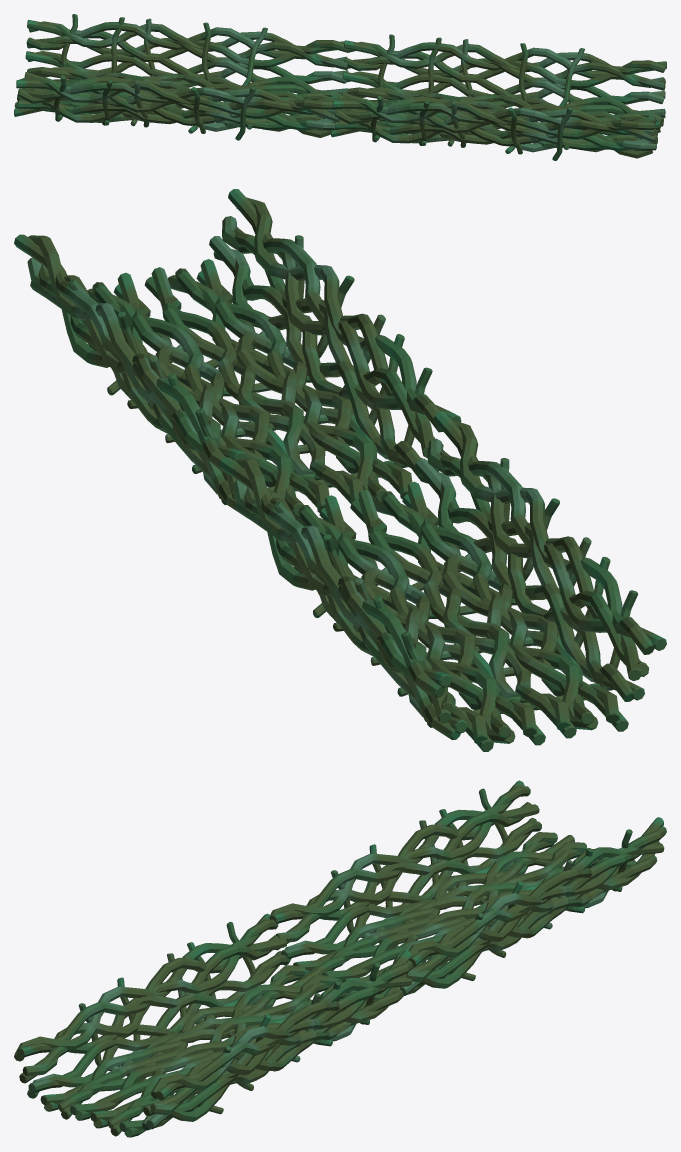
Rendered from bridge.fbx.
3 views of the same model, one above another, from view 1: azimuth 30°, elevation 25°; view 2: azimuth 150°, elevation 25°; view 3: azimuth 270°, elevation 25° (orthographic). The views are drawn at different scales.
Parts seen in each view (by area): view 1: bridge; view 2: bridge; view 3: bridge.
Boxes of the visible parts, x1=… form: bridge: x1=14, y1=14, x2=666, y2=160; bridge: x1=14, y1=189, x2=666, y2=751; bridge: x1=14, y1=780, x2=666, y2=1137.
Size of the model in its own units: 909 by 114 by 801.
1 material, 1 textured.
